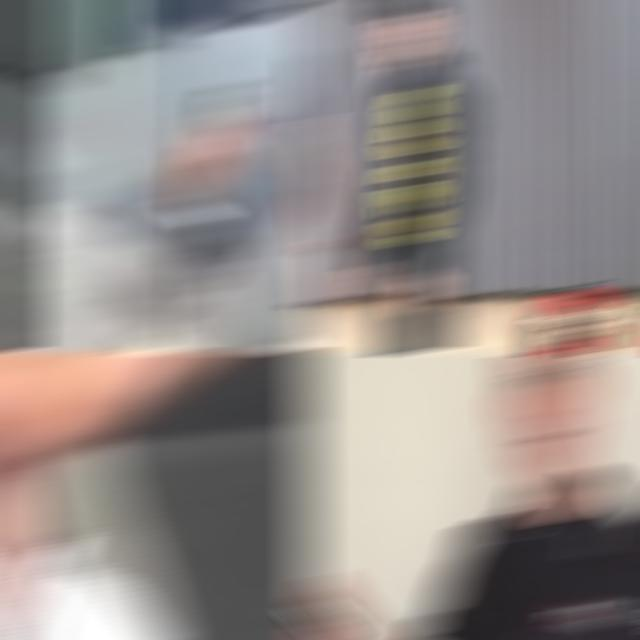Knife: (0, 531, 318, 638)
Knife_Handle: (0, 440, 318, 638), (296, 571, 448, 638), (176, 209, 220, 223)
